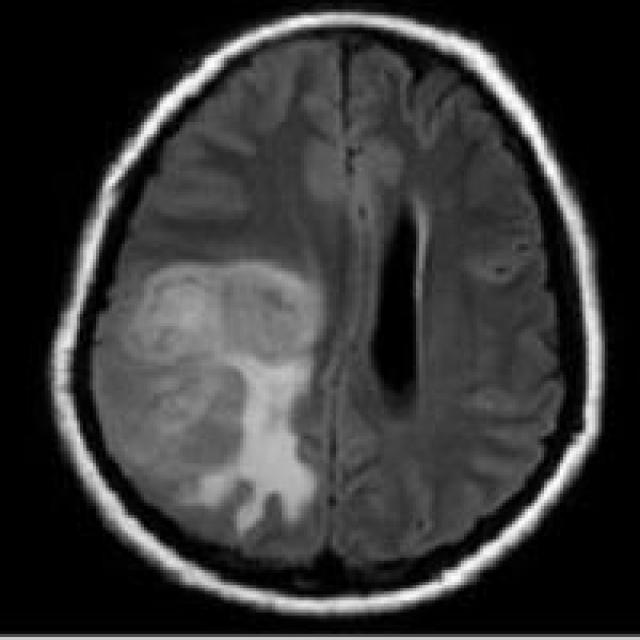Tumor-Cell: (129, 250, 323, 556)
